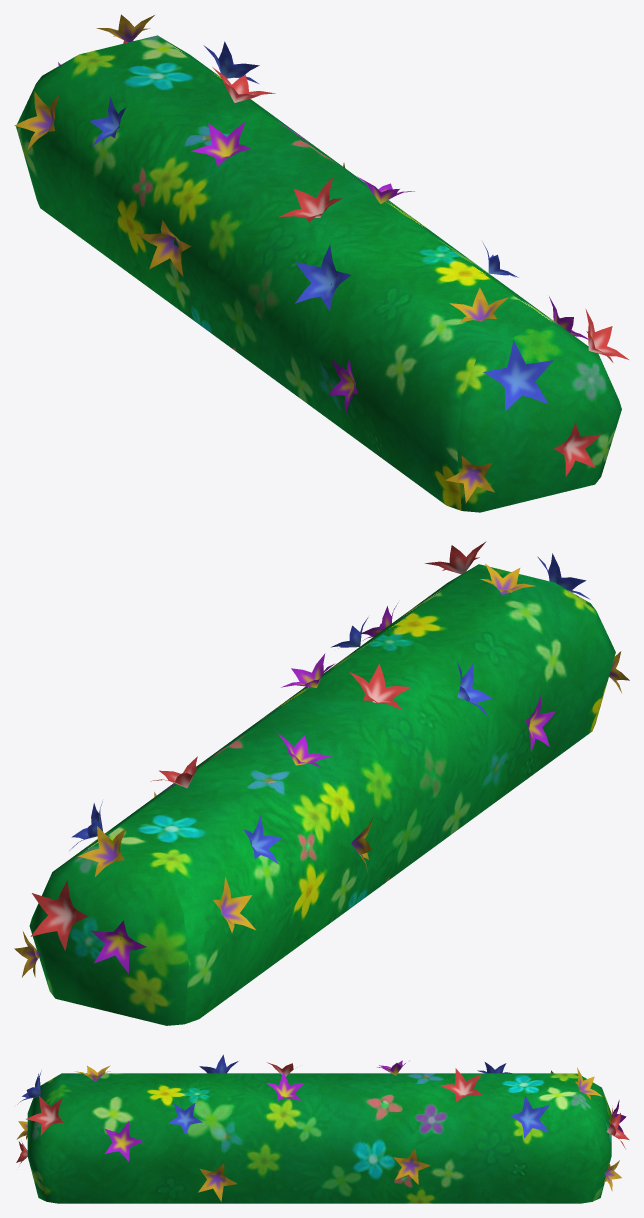
File: Plant03_a03.FBX
The picture shows the model from 3 angles, top to bottom: view 1: azimuth 30°, elevation 25°; view 2: azimuth 150°, elevation 25°; view 3: azimuth 270°, elevation 25°; orthographic projection. The views are drawn at different scales.
Visible parts, largest first — view 1: Plant03_a03; view 2: Plant03_a03; view 3: Plant03_a03.
Part boxes in pixels (x1=…): Plant03_a03: x1=14, y1=14, x2=628, y2=512; Plant03_a03: x1=14, y1=541, x2=629, y2=1025; Plant03_a03: x1=16, y1=1054, x2=629, y2=1203.
Bounding box in the file's own units: 178 × 131 × 640.
2 materials, 2 textured.
